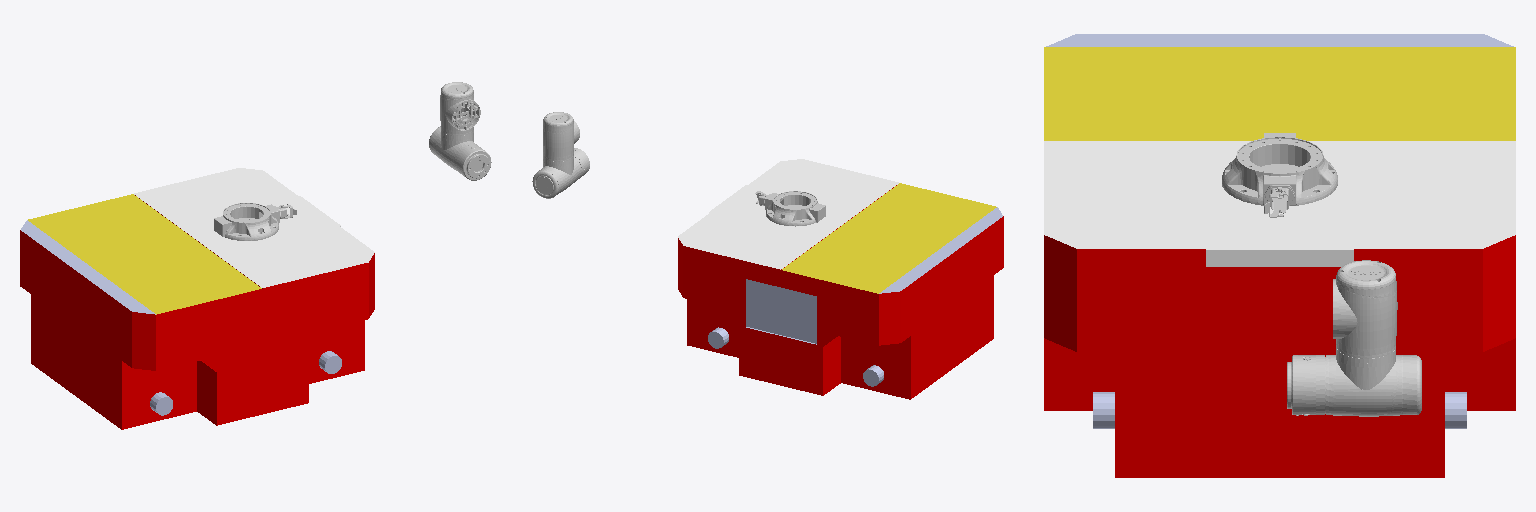
URDF robot description (jaka_mobile):
<?xml version="1.0" ?>
<!-- =================================================================================== -->
<!-- |    This document was autogenerated by xacro from jaka_mobile.urdf.xacro         | -->
<!-- |    EDITING THIS FILE BY HAND IS NOT RECOMMENDED                                 | -->
<!-- =================================================================================== -->
<robot name="jaka_mobile">
  <link name="world"/>
  <link name="x_link">
    <inertial>
      <origin rpy="0 0 0" xyz="0 0 0"/>
      <mass value="3.06"/>
      <inertia ixx="0.3" ixy="0.0" ixz="0.0" iyy="0.3" iyz="0.0" izz="0.3"/>
    </inertial>
  </link>
  <joint name="x_base_joint" type="prismatic">
    <origin rpy="0 0 0" xyz="0 0 0"/>
    <axis xyz="1 0 0"/>
    <parent link="world"/>
    <child link="x_link"/>
    <limit effort="200" lower="-10" upper="10" velocity="2"/>
  </joint>
  <link name="y_link">
    <inertial>
      <origin rpy="0 0 0" xyz="0 0 0"/>
      <mass value="3.06"/>
      <inertia ixx="0.3" ixy="0.0" ixz="0.0" iyy="0.3" iyz="0.0" izz="0.3"/>
    </inertial>
  </link>
  <joint name="y_base_joint" type="prismatic">
    <origin rpy="0 0 0" xyz="0 0 0"/>
    <axis xyz="0 1 0"/>
    <parent link="x_link"/>
    <child link="y_link"/>
    <limit effort="200" lower="-10" upper="10" velocity="2"/>
  </joint>
  <joint name="w_base_joint" type="revolute">
    <origin rpy="0 0 0" xyz="0 0 0.218"/>
    <axis xyz="0 0 1"/>
    <parent link="y_link"/>
    <child link="base"/>
    <limit effort="200" lower="-30" upper="30" velocity="2"/>
  </joint>
  <link name="base">
    <collision>
      <origin rpy="0 0 0" xyz="0 0 0"/>
      <geometry>
        <box size="0.5 0.5 0.25"/>
      </geometry>
      <!-- <origin xyz="0 0 -0.2" rpy="0 0 0" />
                <geometry>
                <mesh filename="package://mppi_ros/resources/mesh/agv_zu7/collision/agv.stl" scale="1 1 1" />
                </geometry>    -->
    </collision>
    <visual>
      <origin rpy="0 0 0" xyz="0 0 -0.2"/>
      <geometry>
        <mesh filename="package://mppi_ros/resources/mesh/agv_zu7/visual/agv_sjtu.dae" scale="1 1 1"/>
      </geometry>
    </visual>
  </link>
  <joint name="base_wheel" type="fixed">
    <origin rpy="0 0 0" xyz="0 0 0"/>
    <axis xyz="0 0 1"/>
    <parent link="base"/>
    <child link="wheel_link"/>
  </joint>
  <link name="wheel_link">
    <visual>
      <origin rpy="0 0 0" xyz="-0.345 -0.32 -0.2"/>
      <!-- <origin xyz="-0.345 0.32 0" rpy="1.5709 0 0" /> -->
      <geometry>
        <mesh filename="package://mppi_ros/resources/mesh/agv_zu7/visual/wheels.dae" scale="1 1 1"/>
      </geometry>
    </visual>
  </link>
  <link name="jaka_base_link">
    <inertial>
      <origin rpy="0 0 0" xyz="0.00096371 8.8222E-08 0.019555"/>
      <mass value="4.0392"/>
      <inertia ixx="0.0048763" ixy="-1.8056E-07" ixz="2.5196E-05" iyy="0.0068003" iyz="-1.7678E-09" izz="0.010618"/>
    </inertial>
    <visual>
      <origin rpy="0 0 0" xyz="0 0 0"/>
      <geometry>
        <mesh filename="package://mppi_ros/resources/mesh/jaka_zu7/visual/base.DAE"/>
      </geometry>
      <material name="">
        <color rgba="0.84706 0.84706 0.84706 1"/>
      </material>
    </visual>
    <collision>
      <origin rpy="0 0 0" xyz="0 0 0"/>
      <geometry>
        <mesh filename="package://mppi_ros/resources/mesh/jaka_zu7/collision/base.STL"/>
      </geometry>
    </collision>
  </link>
  <link name="jaka_shoulder_link">
    <inertial>
      <origin rpy="0 0 0" xyz="-2.5186E-07 0.0033226 -0.001509"/>
      <mass value="3.027"/>
      <inertia ixx="0.044302" ixy="1.5349E-07" ixz="-6.1966E-07" iyy="0.043091" iyz="1.4326E-05" izz="0.030523"/>
    </inertial>
    <visual>
      <origin rpy="0 0 0" xyz="0 0 0"/>
      <geometry>
        <mesh filename="package://mppi_ros/resources/mesh/jaka_zu7/visual/shoulder_link.DAE"/>
      </geometry>
      <material name="">
        <color rgba="0.84706 0.84706 0.84706 1"/>
      </material>
    </visual>
    <collision>
      <origin rpy="0 0 0" xyz="0 0 0"/>
      <geometry>
        <mesh filename="package://mppi_ros/resources/mesh/jaka_zu7/collision/shoulder_link.STL"/>
      </geometry>
    </collision>
  </link>
  <joint name="jaka_shoulder_pan_joint" type="revolute">
    <origin rpy="0 0 0.0" xyz="0 0 0.12015"/>
    <parent link="jaka_base_link"/>
    <child link="jaka_shoulder_link"/>
    <axis xyz="0 0 1"/>
    <limit effort="2000" lower="-6.28" upper="6.28" velocity="3.57"/>
  </joint>
  <link name="jaka_upper_arm_link">
    <inertial>
      <origin rpy="0 0 0" xyz="0.18 8.8001E-09 -0.14308"/>
      <mass value="8.5744"/>
      <inertia ixx="0.1014" ixy="-1.1106E-06" ixz="-1.3363E-07" iyy="1.1119" iyz="2.9045E-08" izz="1.0844"/>
    </inertial>
    <visual>
      <origin rpy="0 0 0" xyz="0 0 0"/>
      <geometry>
        <mesh filename="package://mppi_ros/resources/mesh/jaka_zu7/visual/upper_arm_link.DAE"/>
      </geometry>
      <material name="">
        <color rgba="0.84706 0.84706 0.84706 1"/>
      </material>
    </visual>
    <collision>
      <origin rpy="0 0 0" xyz="0 0 0"/>
      <geometry>
        <mesh filename="package://mppi_ros/resources/mesh/jaka_zu7/collision/upper_arm_link.STL"/>
      </geometry>
    </collision>
  </link>
  <joint name="jaka_shoulder_lift_joint" type="revolute">
    <origin rpy="-1.5708 0.0 0" xyz="0 0.14415 0"/>
    <parent link="jaka_shoulder_link"/>
    <child link="jaka_upper_arm_link"/>
    <axis xyz="0 0 -1"/>
    <limit effort="1500" lower="-1.48" upper="4.625" velocity="3.57"/>
  </joint>
  <link name="jaka_forearm_link">
    <inertial>
      <origin rpy="0 0 0" xyz="0.15515 5.4643E-08 -0.012576"/>
      <mass value="3.3124"/>
      <inertia ixx="0.020968" ixy="-3.9001E-06" ixz="-0.018394" iyy="0.28365" iyz="-1.2859E-07" izz="0.27848"/>
    </inertial>
    <visual>
      <origin rpy="0 0 0" xyz="0 0 0"/>
      <geometry>
        <mesh filename="package://mppi_ros/resources/mesh/jaka_zu7/visual/forearm_link.DAE"/>
      </geometry>
      <material name="">
        <color rgba="0.84706 0.84706 0.84706 1"/>
      </material>
    </visual>
    <collision>
      <origin rpy="0 0 0" xyz="0 0 0"/>
      <geometry>
        <mesh filename="package://mppi_ros/resources/mesh/jaka_zu7/collision/forearm_link.STL"/>
      </geometry>
    </collision>
  </link>
  <joint name="jaka_elbow_joint" type="revolute">
    <origin rpy="0 0 0.0" xyz="0.36 0 -0.14264"/>
    <parent link="jaka_upper_arm_link"/>
    <child link="jaka_forearm_link"/>
    <axis xyz="0 0 -1"/>
    <limit effort="1500" lower="-3.05" upper="3.05" velocity="3.57"/>
  </joint>
  <link name="jaka_wrist_1_link">
    <inertial>
      <origin rpy="0 0 0" xyz="-2.1345E-06 -0.0058004 0.0026717"/>
      <mass value="1.1105"/>
      <inertia ixx="0.0092564" ixy="1.1341E-07" ixz="-1.2578E-08" iyy="0.0052251" iyz="-8.3499E-05" izz="0.0089683"/>
    </inertial>
    <visual>
      <origin rpy="0 0 0" xyz="0 0 0"/>
      <geometry>
        <mesh filename="package://mppi_ros/resources/mesh/jaka_zu7/visual/wrist_1_link.DAE"/>
      </geometry>
      <material name="">
        <color rgba="0.84706 0.84706 0.84706 1"/>
      </material>
    </visual>
    <collision>
      <origin rpy="0 0 0" xyz="0 0 0"/>
      <geometry>
        <mesh filename="package://mppi_ros/resources/mesh/jaka_zu7/collision/wrist_1_link.STL"/>
      </geometry>
    </collision>
  </link>
  <joint name="jaka_wrist_1_joint" type="revolute">
    <origin rpy="0 0 0.0" xyz="0.30353 0 0.11501"/>
    <parent link="jaka_forearm_link"/>
    <child link="jaka_wrist_1_link"/>
    <axis xyz="0 0 -1"/>
    <limit effort="1000" lower="-1.48" upper="4.625" velocity="3.57"/>
  </joint>
  <link name="jaka_wrist_2_link">
    <inertial>
      <origin rpy="0 0 0" xyz="-2.0304E-06 -0.0028889 -0.0023424"/>
      <mass value="1.26678"/>
      <inertia ixx="0.012993" ixy="-1.0764E-07" ixz="5.8559E-09" iyy="0.0058454" iyz="4.5426E-05" izz="0.0127"/>
    </inertial>
    <visual>
      <origin rpy="0 0 0" xyz="0 0 0"/>
      <geometry>
        <mesh filename="package://mppi_ros/resources/mesh/jaka_zu7/visual/wrist_2_link.DAE"/>
      </geometry>
      <material name="">
        <color rgba="0.84706 0.84706 0.84706 1"/>
      </material>
    </visual>
    <collision>
      <origin rpy="0 0 0" xyz="0 0 0"/>
      <geometry>
        <mesh filename="package://mppi_ros/resources/mesh/jaka_zu7/collision/wrist_2_link.STL"/>
      </geometry>
    </collision>
  </link>
  <joint name="jaka_wrist_2_joint" type="revolute">
    <origin rpy="-1.5708 0.0 0" xyz="0 0.1135 0"/>
    <parent link="jaka_wrist_1_link"/>
    <child link="jaka_wrist_2_link"/>
    <axis xyz="0 0 1"/>
    <limit effort="1000" lower="-6.28" upper="6.28" velocity="3.57"/>
  </joint>
  <link name="jaka_wrist_3_link">
    <inertial>
      <origin rpy="0 0 0" xyz="2.7652E-05 -1.3485E-05 -0.021245"/>
      <mass value="0.28338"/>
      <inertia ixx="0.00071853" ixy="-6.9778E-07" ixz="-6.378E-07" iyy="0.00072375" iyz="8.3072E-07" izz="0.0011337"/>
    </inertial>
    <visual>
      <origin rpy="0 0 0" xyz="0 0 0"/>
      <geometry>
        <mesh filename="package://mppi_ros/resources/mesh/jaka_zu7/visual/wrist_3_link.DAE"/>
      </geometry>
      <material name="">
        <color rgba="0.84706 0.84706 0.84706 1"/>
      </material>
    </visual>
    <collision>
      <origin rpy="0 0 0" xyz="0 0 0"/>
      <geometry>
        <mesh filename="package://mppi_ros/resources/mesh/jaka_zu7/collision/wrist_3_link.STL"/>
      </geometry>
    </collision>
  </link>
  <joint name="jaka_wrist_3_joint" type="revolute">
    <origin rpy="-1.5708 0.0 0" xyz="0 0.107 0"/>
    <parent link="jaka_wrist_2_link"/>
    <child link="jaka_wrist_3_link"/>
    <axis xyz="0 0 1"/>
    <limit effort="1000" lower="-6.28" upper="6.28" velocity="3.57"/>
  </joint>
  <joint name="jaka_ee_fixed_joint" type="fixed">
    <parent link="jaka_wrist_3_link"/>
    <child link="panda_hand"/>
    <origin rpy="1.5707963267948966 -1.5707963267948966 0.0" xyz="0.0 0.0 0.034"/>
  </joint>
  <link name="panda_hand">
    </link>
  <!-- collision -->
  <!-- <joint name="base_collision_joint" type="fixed">
            <origin rpy="0 0 0" xyz="0 0 0.12015"/>
            <parent link="${prefix}base_link"/>
            <child link="${prefix}base_collision_link"/>
    </joint>

    <link name="${prefix}base_collision_link">
        <visual>
            <origin xyz="0 0 0" rpy="0 0 0" />
            <geometry>
            <sphere radius="0.05" />
            </geometry>            
        </visual>
    </link>

    <joint name="shoulder_collision_joint" type="fixed">
            <origin rpy="0 0 0" xyz="0 0.14415 0"/>
            <parent link="${prefix}shoulder_link"/>
            <child link="${prefix}shoulder_collision_link"/>
    </joint>

    <link name="${prefix}shoulder_collision_link">
        <visual>
            <origin xyz="0 0 0" rpy="0 0 0" />
            <geometry>
            <sphere radius="0.05" />
            </geometry>            
        </visual>
    </link>

    <joint name="upper_arm_collision_joint_1" type="fixed">
            <origin rpy="0 0 0" xyz="0.18 0 0"/>
            <parent link="${prefix}upper_arm_link"/>
            <child link="${prefix}upper_arm_collision_link_1"/>
    </joint>

    <link name="${prefix}upper_arm_collision_link_1">
        <visual>
            <origin xyz="0 0 0" rpy="0 0 0" />
            <geometry>
            <sphere radius="0.05" />
            </geometry>            
        </visual>
    </link>

    <joint name="upper_arm_collision_joint_2" type="fixed">
            <origin rpy="0 0 0" xyz="0.36 0 0"/>
            <parent link="${prefix}upper_arm_link"/>
            <child link="${prefix}upper_arm_collision_link_2"/>
    </joint>

    <link name="${prefix}upper_arm_collision_link_2">
        <visual>
            <origin xyz="0 0 0" rpy="0 0 0" />
            <geometry>
            <sphere radius="0.05" />
            </geometry>            
        </visual>
    </link>

    <joint name="forearm_collision_joint_1" type="fixed">
            <origin rpy="0 0 0" xyz="0 0 0"/>
            <parent link="${prefix}forearm_link"/>
            <child link="${prefix}forearm_collision_link_1"/>
    </joint>

    <link name="${prefix}forearm_collision_link_1">
        <visual>
            <origin xyz="0 0 0" rpy="0 0 0" />
            <geometry>
            <sphere radius="0.05" />
            </geometry>            
        </visual>
    </link>

    <joint name="forearm_collision_joint_2" type="fixed">
            <origin rpy="0 0 0" xyz="0.15175 0 0"/>
            <parent link="${prefix}forearm_link"/>
            <child link="${prefix}forearm_collision_link_2"/>
        </joint>

    <link name="${prefix}forearm_collision_link_2">
        <visual>
            <origin xyz="0 0 0" rpy="0 0 0" />
            <geometry>
            <sphere radius="0.05" />
            </geometry>            
        </visual>
    </link>

    <joint name="forearm_collision_joint_3" type="fixed">
            <origin rpy="0 0 0" xyz="0.3035 0 0"/>
            <parent link="${prefix}forearm_link"/>
            <child link="${prefix}forearm_collision_link_3"/>
        </joint>

    <link name="${prefix}forearm_collision_link_3">
        <visual>
            <origin xyz="0 0 0" rpy="0 0 0" />
            <geometry>
            <sphere radius="0.05" />
            </geometry>            
        </visual>
    </link>

    <joint name="wrist_1_collision_joint" type="fixed">
            <origin rpy="0 0 0" xyz="0 0.1135 0"/>
            <parent link="${prefix}wrist_1_link"/>
            <child link="${prefix}wrist_1_collision_link"/>
        </joint>

    <link name="${prefix}wrist_1_collision_link">
        <visual>
            <origin xyz="0 0 0" rpy="0 0 0" />
            <geometry>
            <sphere radius="0.05" />
            </geometry>            
        </visual>
    </link>

    <joint name="wrist_2_collision_joint_1" type="fixed">
            <origin rpy="0 0 0" xyz="0 0.107 0"/>
            <parent link="${prefix}wrist_2_link"/>
            <child link="${prefix}wrist_2_collision_link_1"/>
        </joint>

    <link name="${prefix}wrist_2_collision_link_1">
        <visual>
            <origin xyz="0 0 0" rpy="0 0 0" />
            <geometry>
            <sphere radius="0.05" />
            </geometry>            
        </visual>
    </link>

    <joint name="wrist_2_collision_joint_2" type="fixed">
            <origin rpy="0 0 0" xyz="0 0.214 0"/>
            <parent link="${prefix}wrist_2_link"/>
            <child link="${prefix}wrist_2_collision_link_2"/>
        </joint>

    <link name="${prefix}wrist_2_collision_link_2">
        <visual>
            <origin xyz="0 0 0" rpy="0 0 0" />
            <geometry>
            <sphere radius="0.05" />
            </geometry>            
        </visual>
    </link>

    <transmission name="${prefix}shoulder_pan_trans">
      <type>transmission_interface/SimpleTransmission</type>
      <joint name="${prefix}shoulder_pan_joint">
        <hardwareInterface>hardware_interface/PositionJointInterface</hardwareInterface>
      </joint>
      <actuator name="${prefix}shoulder_pan_motor">
        <mechanicalReduction>1</mechanicalReduction>
      </actuator>
    </transmission>
    <transmission name="${prefix}shoulder_lift_trans">
      <type>transmission_interface/SimpleTransmission</type>
      <joint name="${prefix}shoulder_lift_joint">
        <hardwareInterface>hardware_interface/PositionJointInterface</hardwareInterface>
      </joint>
      <actuator name="${prefix}shoulder_lift_motor">
        <mechanicalReduction>1</mechanicalReduction>
      </actuator>
    </transmission>
    <transmission name="${prefix}elbow_trans">
      <type>transmission_interface/SimpleTransmission</type>
      <joint name="${prefix}elbow_joint">
        <hardwareInterface>hardware_interface/PositionJointInterface</hardwareInterface>
      </joint>
      <actuator name="${prefix}elbow_motor">
        <mechanicalReduction>1</mechanicalReduction>
      </actuator>
    </transmission>
    <transmission name="${prefix}wrist_1_trans">
      <type>transmission_interface/SimpleTransmission</type>
      <joint name="${prefix}wrist_1_joint">
        <hardwareInterface>hardware_interface/PositionJointInterface</hardwareInterface>
      </joint>
      <actuator name="${prefix}wrist_1_motor">
        <mechanicalReduction>1</mechanicalReduction>
      </actuator>
    </transmission>
    <transmission name="${prefix}wrist_2_trans">
      <type>transmission_interface/SimpleTransmission</type>
      <joint name="${prefix}wrist_2_joint">
        <hardwareInterface>hardware_interface/PositionJointInterface</hardwareInterface>
      </joint>
      <actuator name="${prefix}wrist_2_motor">
        <mechanicalReduction>1</mechanicalReduction>
      </actuator>
    </transmission>
    <transmission name="${prefix}wrist_3_trans">
      <type>transmission_interface/SimpleTransmission</type>
      <joint name="${prefix}wrist_3_joint">
        <hardwareInterface>hardware_interface/PositionJointInterface</hardwareInterface>
      </joint>
      <actuator name="${prefix}wrist_3_motor">
        <mechanicalReduction>1</mechanicalReduction>
      </actuator>
    </transmission> -->
  <joint name="mobile_jaka_joint" type="fixed">
    <parent link="base"/>
    <child link="jaka_base_link"/>
    <origin rpy="0 0 0" xyz="0.1395 0 0.1965"/>
  </joint>
</robot>

--- What the picture shows (computed from the rendered views, not written in the file) ---
3 views of the same robot in one strip: view 1: azimuth 30°, elevation 25°; view 2: azimuth 150°, elevation 25°; view 3: azimuth 270°, elevation 25° (orthographic).
Robot: jaka_mobile — 13 links, 12 joints (7 revolute, 2 prismatic, 3 fixed); root link world; default pose: all joints at 0.
Visible links, largest first — view 1: base, jaka_base_link, jaka_wrist_1_link, jaka_wrist_3_link, jaka_wrist_2_link; view 2: base, jaka_base_link, jaka_wrist_1_link, jaka_wrist_2_link; view 3: base, jaka_base_link, jaka_wrist_1_link, jaka_wrist_2_link, jaka_wrist_3_link.
Link boxes in pixels (left/top/right/bottom): base: left=20, top=168, right=374, bottom=429; jaka_base_link: left=214, top=203, right=296, bottom=240; jaka_wrist_1_link: left=440, top=82, right=480, bottom=140; jaka_wrist_3_link: left=457, top=146, right=491, bottom=180; jaka_wrist_2_link: left=429, top=126, right=477, bottom=171; base: left=678, top=159, right=1003, bottom=399; jaka_base_link: left=755, top=191, right=825, bottom=226; jaka_wrist_1_link: left=543, top=112, right=579, bottom=165; jaka_wrist_2_link: left=532, top=153, right=583, bottom=198; base: left=1044, top=34, right=1515, bottom=477; jaka_base_link: left=1222, top=133, right=1337, bottom=217; jaka_wrist_1_link: left=1333, top=260, right=1397, bottom=367; jaka_wrist_2_link: left=1316, top=355, right=1421, bottom=416; jaka_wrist_3_link: left=1287, top=355, right=1315, bottom=415.
Size in the robot's own frame: 1.19 by 0.636 by 0.5226 metres.
5 mesh visuals loaded from 9 distinct referenced files (5 Collada DAE); not drawn: 4 (reference not matched to a file when rendering).
